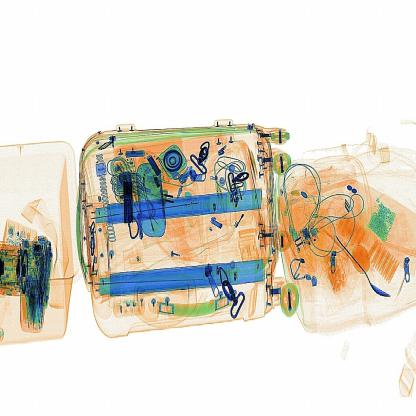scissors: (118, 171, 146, 237)
